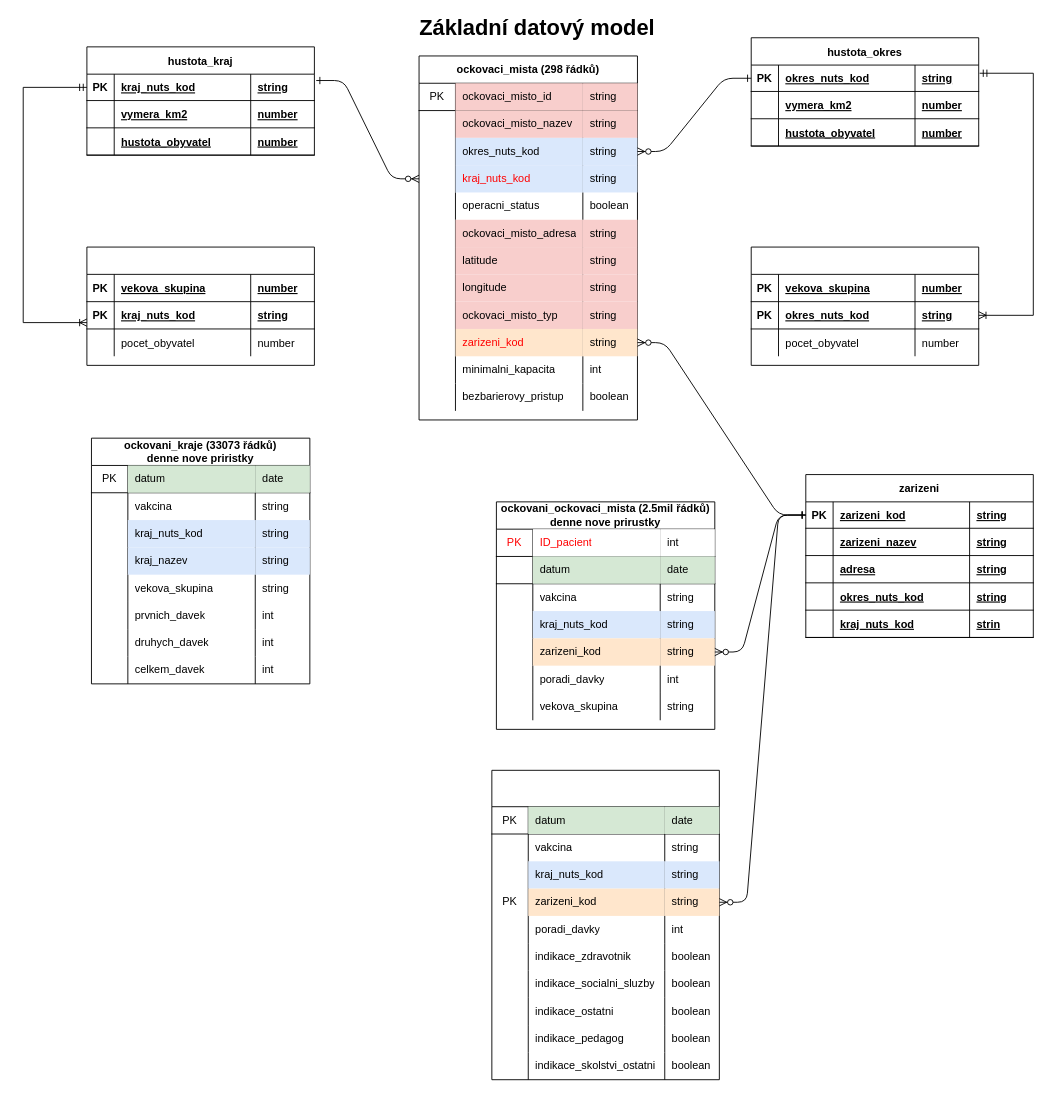
The diagram is 1057 pixels wide and 1096 high, and some of its shapes have lost their labels. Here are the shapes that lost their labels. From the top down, the box of each, then its label:
(86, 246, 314, 365): populace_kraj
(750, 246, 979, 365): populace_okres
(491, 769, 719, 1080): ockovani_profese (2.5 mil radku) denne nove prirustky
